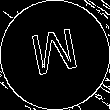M_S: (27, 26, 83, 84)
